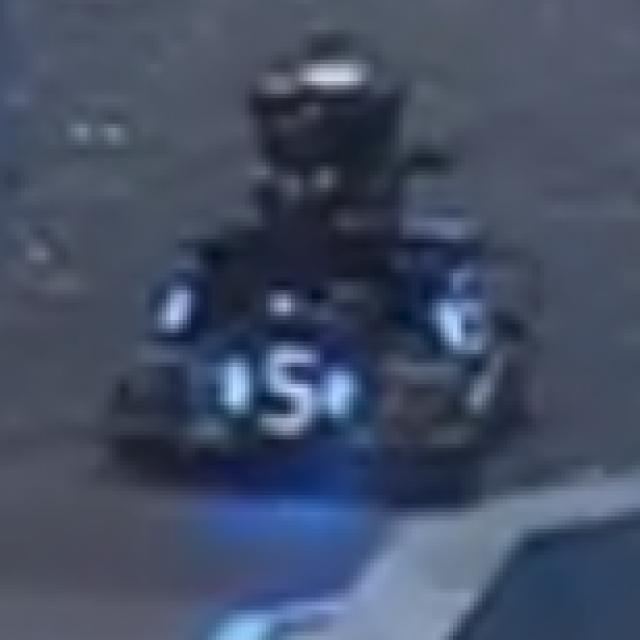B5: (228, 337, 362, 422)
